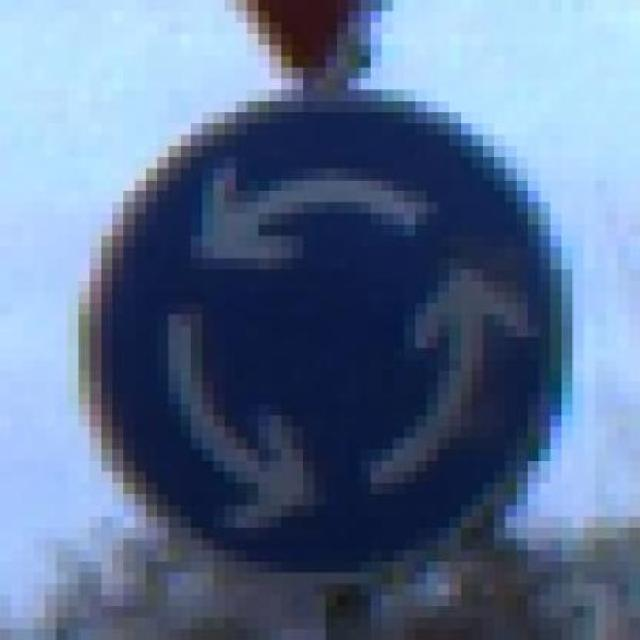Round-About: (45, 90, 618, 596)
